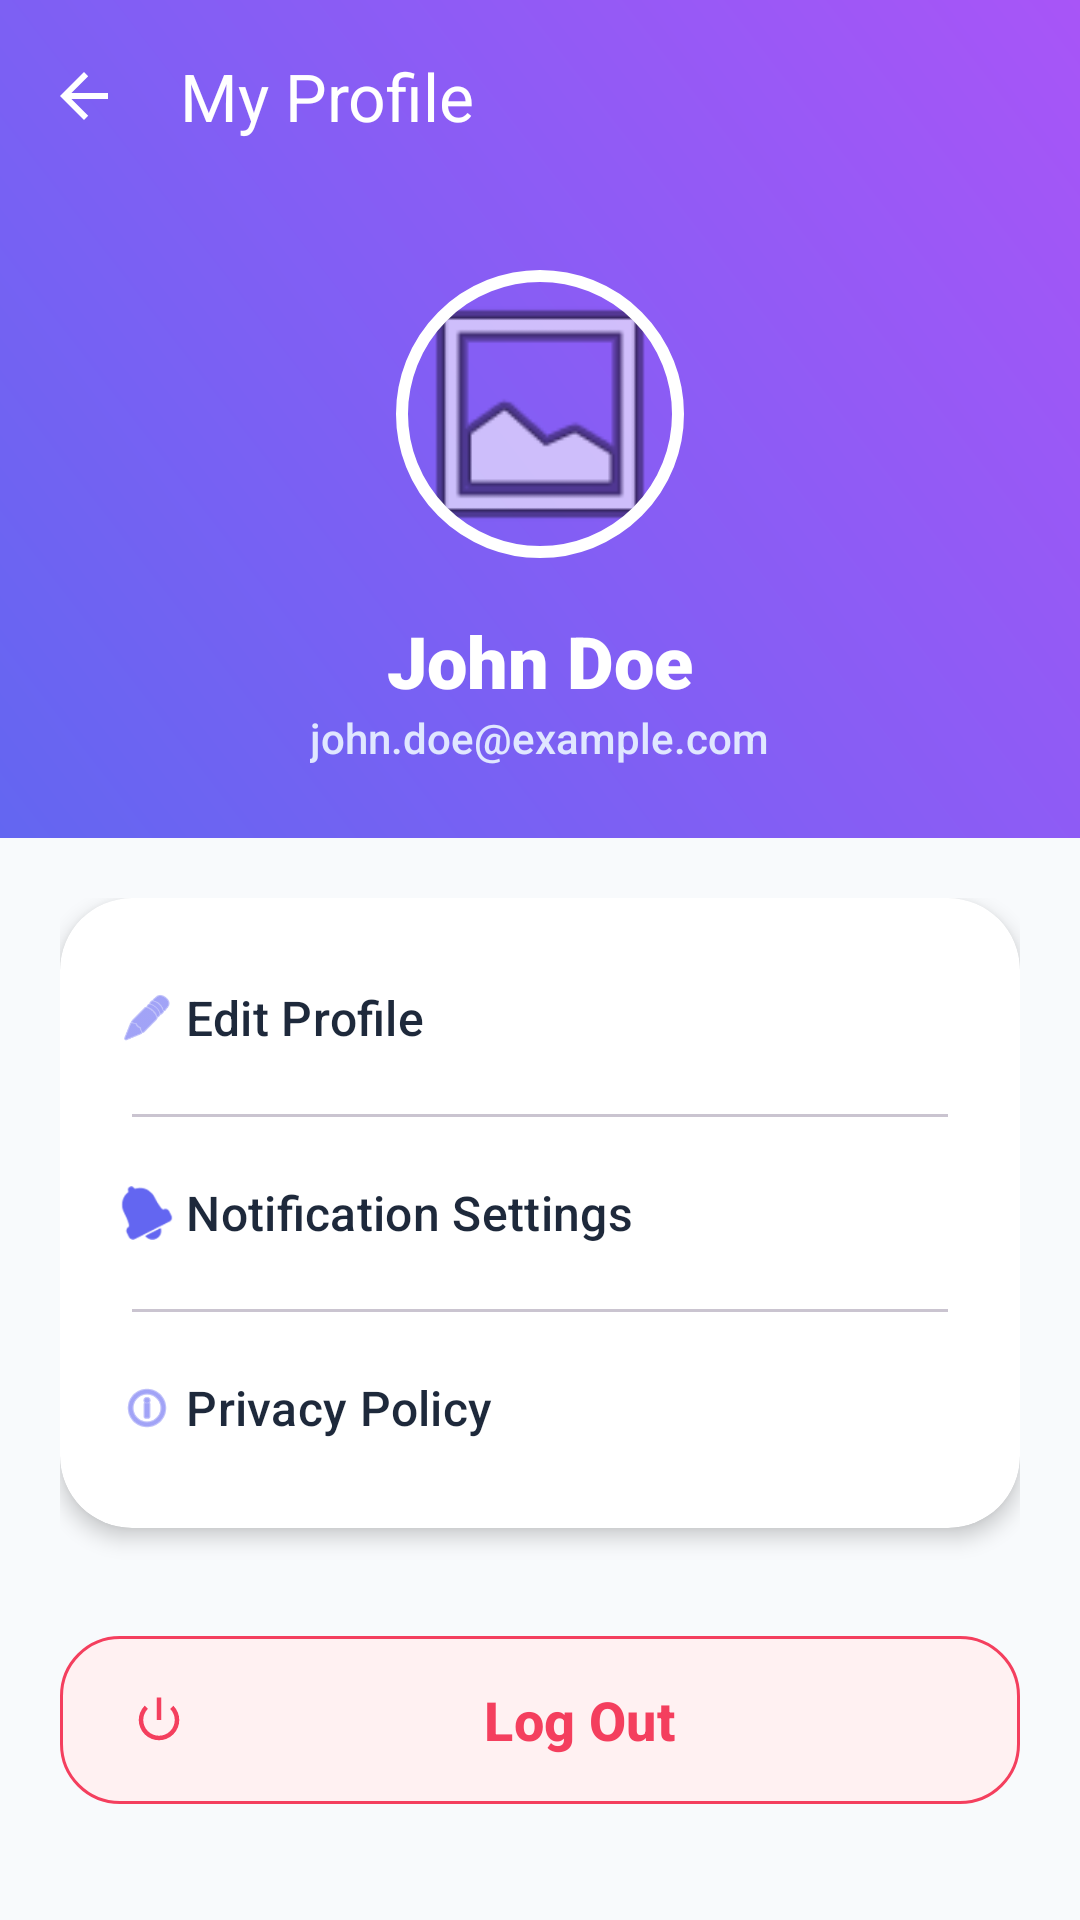

Icon click points for this 1080px×1920px phone screenshot, format (x,y):
gallery: (540,414)
